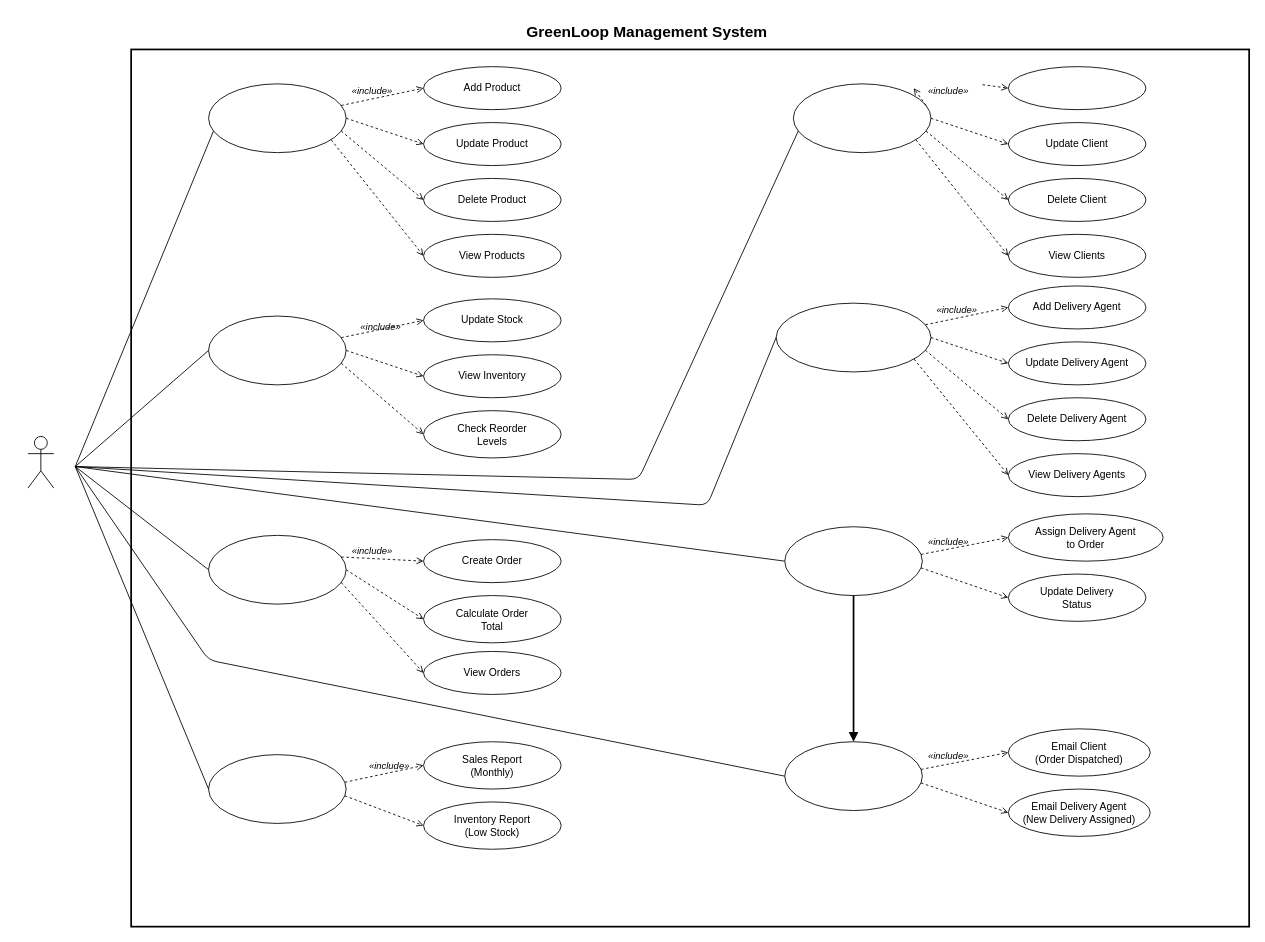
Some shapes in this 1265 by 942 pixel diagram are drawn without their labels. The centre of each missing label's shape, as x and y in pixels:
Add Client: pixel 1076 88
Admin / Green Staff: pixel 40 462
Assign Deliveries: pixel 853 561
Generate Reports: pixel 277 788
Manage Clients: pixel 861 118
Manage Delivery Agents: pixel 853 337
Manage Inventory: pixel 277 350
Manage Products: pixel 277 118
Process Orders: pixel 277 569
Send Email Notifications: pixel 853 776
